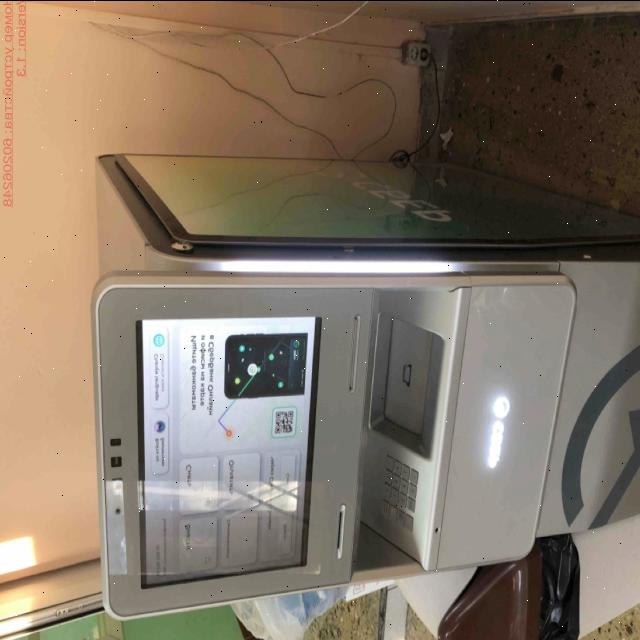bank: (90, 151, 640, 618)
